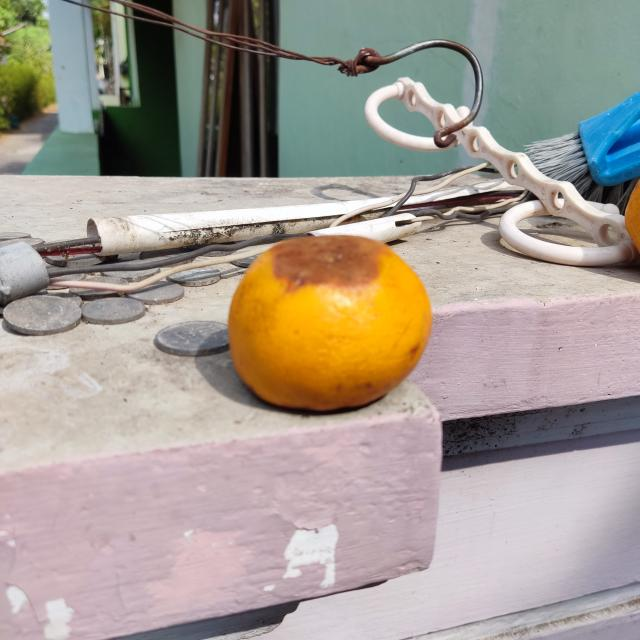orange: (225, 234, 436, 414)
